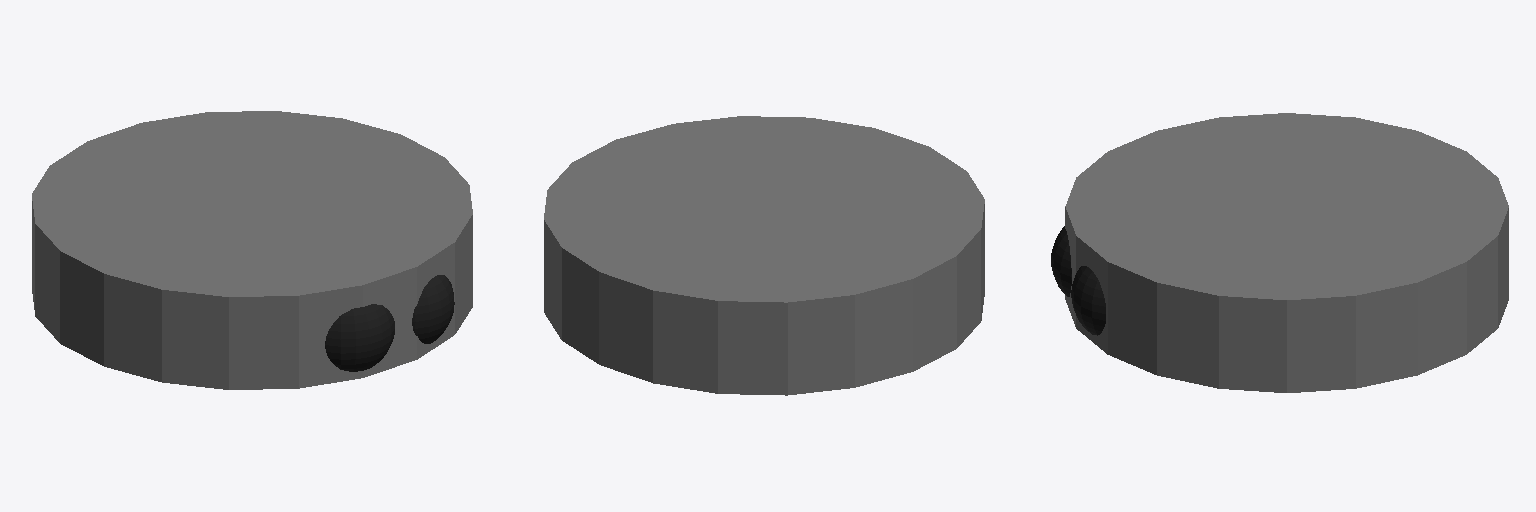
File: ring3.obj
The picture shows the model from 3 angles: view 1: azimuth 30°, elevation 25°; view 2: azimuth 150°, elevation 25°; view 3: azimuth 270°, elevation 25°; orthographic projection.
Visible parts, largest first — view 1: ring, Stone; view 2: ring; view 3: ring, Stone.
Boxes of the visible parts, x1,y1,x2,y2 form: ring: [32, 111, 472, 389]; Stone: [325, 275, 454, 371]; ring: [544, 116, 984, 395]; ring: [1065, 113, 1508, 392]; Stone: [1051, 226, 1105, 335].
Bounding box in the file's own units: 8.92 × 2.19 × 9.21.